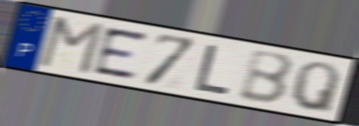7: (143, 32, 198, 88)
B: (237, 49, 296, 107)
E: (92, 25, 151, 81)
L: (192, 42, 233, 97)
M: (36, 14, 107, 76)
Q: (288, 60, 342, 117)
